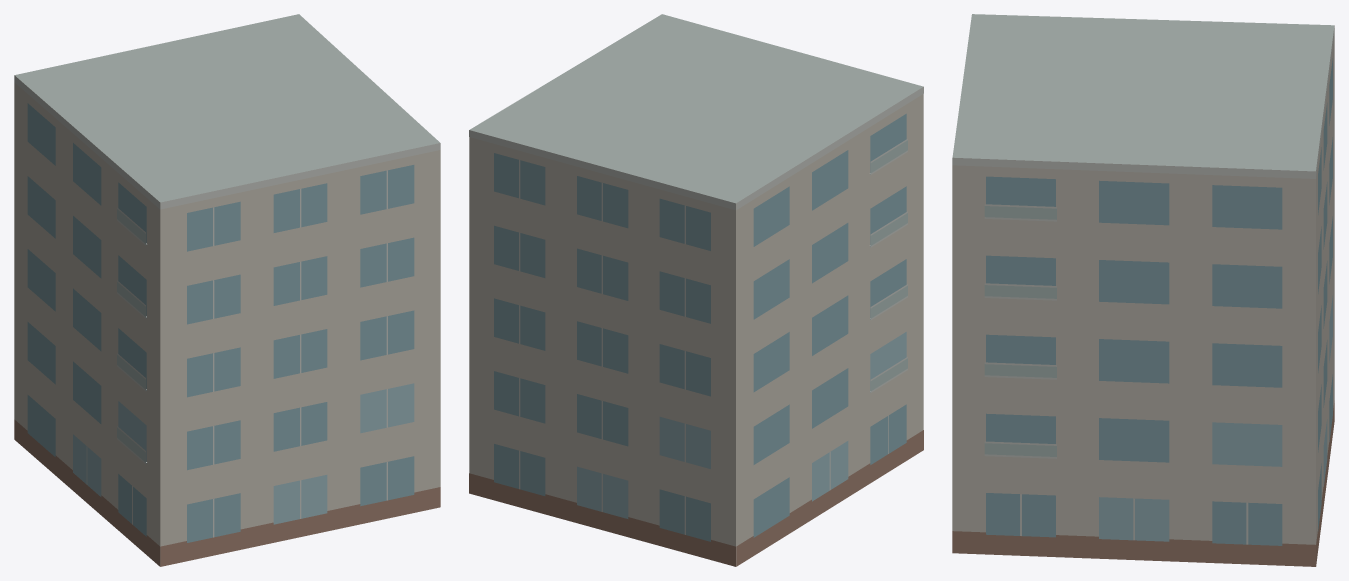
The model's file is survey-upis-32751923.glb.
3 renders of one model, left to right at view 1: azimuth 30°, elevation 25°; view 2: azimuth 150°, elevation 25°; view 3: azimuth 270°, elevation 25°, orthographic. The views are drawn at different scales.
Visible parts, largest first — view 1: survey-upis-32751923.tmp; view 2: survey-upis-32751923.tmp; view 3: survey-upis-32751923.tmp.
Part boxes in pixels (x1=…): survey-upis-32751923.tmp: x1=14, y1=14, x2=440, y2=566; survey-upis-32751923.tmp: x1=469, y1=14, x2=923, y2=566; survey-upis-32751923.tmp: x1=952, y1=14, x2=1334, y2=566.
Bounding box in the file's own units: 10.85 × 12.7 × 11.13.
